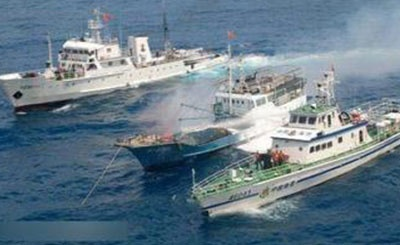warship: (182, 68, 400, 208), (3, 8, 245, 110), (115, 56, 304, 167)
